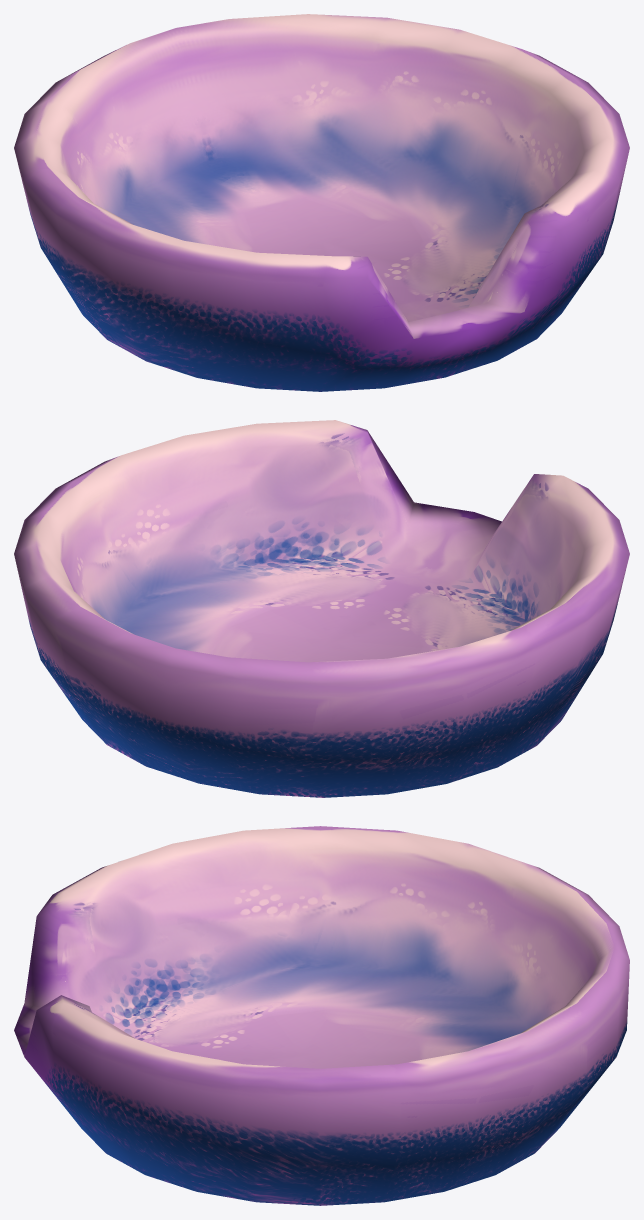
The model's file is KittyBed.fbx.
3 renders of one model, top to bottom at view 1: azimuth 30°, elevation 25°; view 2: azimuth 150°, elevation 25°; view 3: azimuth 270°, elevation 25°, orthographic.
Visible parts, largest first — view 1: KittyBed; view 2: KittyBed; view 3: KittyBed.
Part boxes in pixels (left/top/right/bottom): KittyBed: left=14, top=14, right=629, bottom=391; KittyBed: left=14, top=420, right=629, bottom=797; KittyBed: left=14, top=826, right=629, bottom=1205.
Size of the model in its own units: 60.96 by 60.66 by 16.62.
